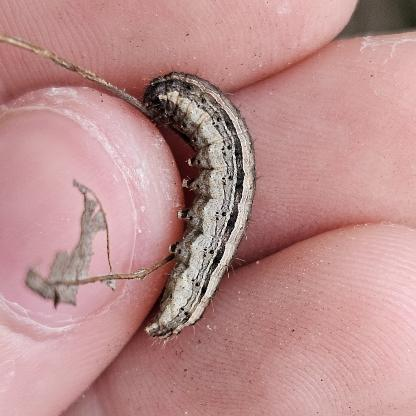Fall Armyworm Larvae: (132, 65, 266, 351)
